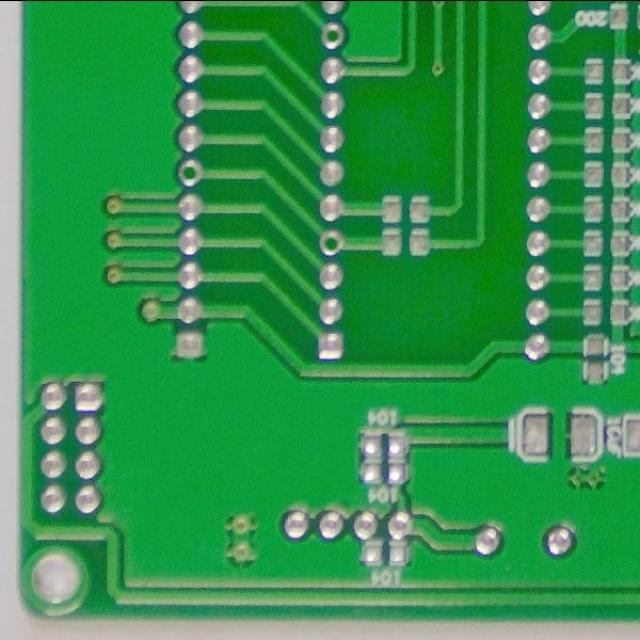Missing_Hole: (172, 157, 210, 189), (314, 226, 348, 258), (317, 19, 349, 51)
